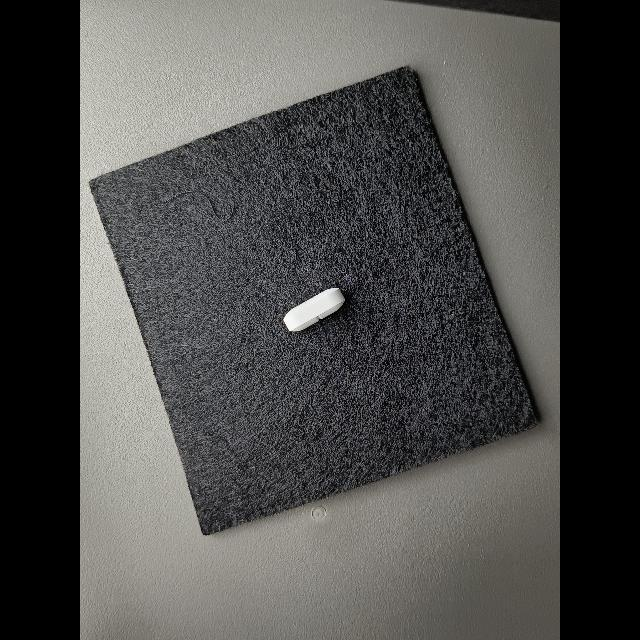Intact Pill: (283, 288, 345, 332)
